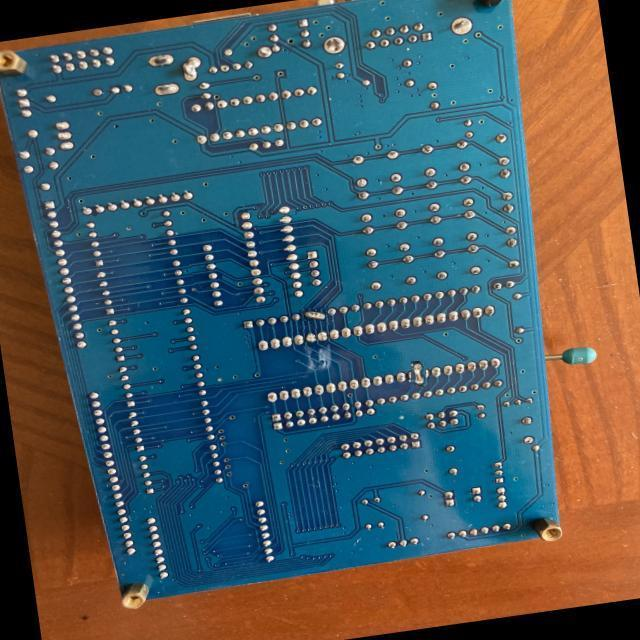damged: (408, 364, 429, 385), (302, 308, 326, 321)
